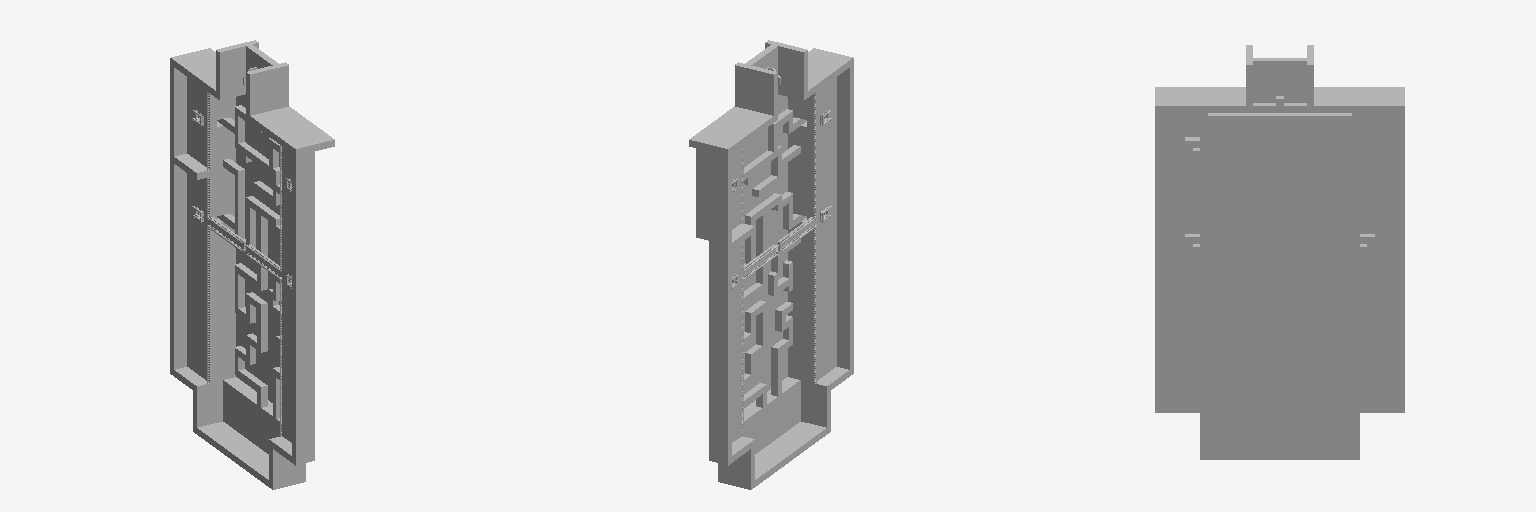
File: maze.obj
3 views of the same model, side by side, from view 1: azimuth 30°, elevation 25°; view 2: azimuth 150°, elevation 25°; view 3: azimuth 270°, elevation 25° (orthographic).
Parts seen in each view (by area): view 1: mergedBlocks; view 2: mergedBlocks; view 3: mergedBlocks.
Part boxes in pixels (bbox=[...]): mergedBlocks: bbox=[170, 40, 334, 489]; mergedBlocks: bbox=[689, 40, 853, 489]; mergedBlocks: bbox=[1155, 45, 1404, 459].
Size of the model in its own units: 7 by 58 by 33.